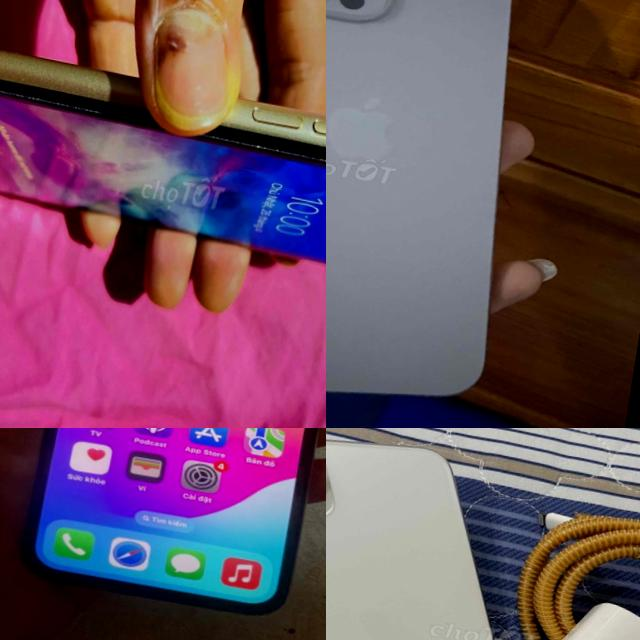gen_11: (7, 428, 326, 625), (326, 428, 585, 640)
gen_15: (326, 0, 562, 428)
gen_7_8: (0, 22, 326, 311)
scratch: (209, 127, 326, 199), (0, 68, 107, 118), (246, 100, 266, 114), (311, 113, 326, 130)
